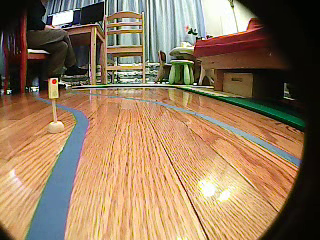Red Traffic Light: (48, 76, 61, 98)
